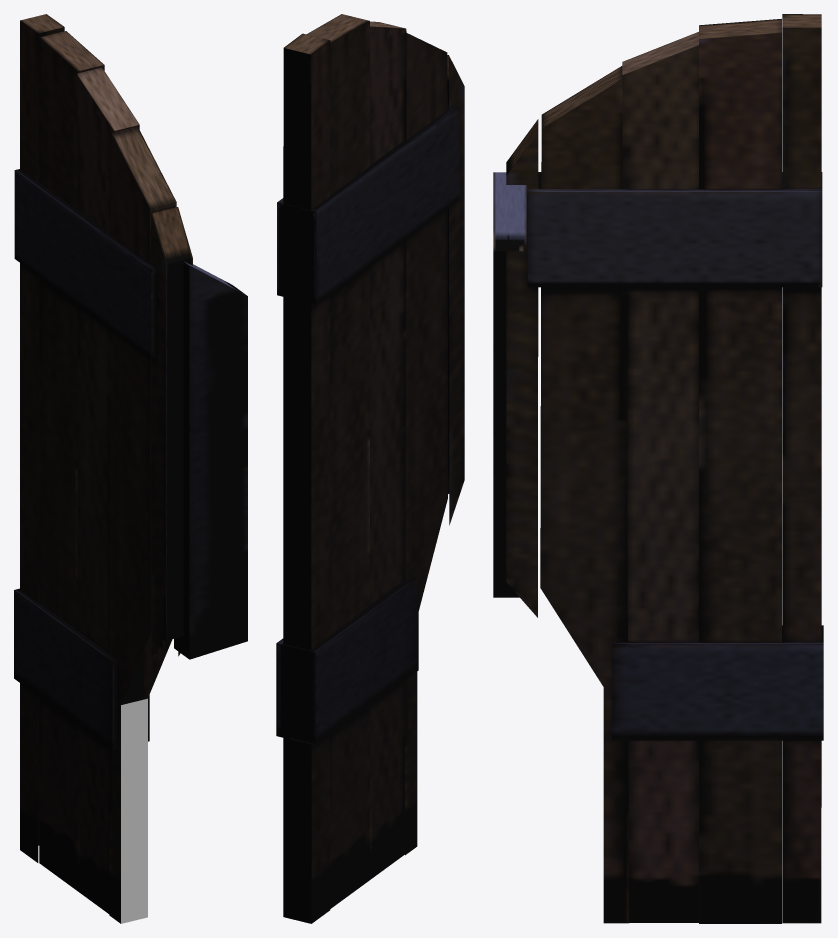
The model's file is DoorSide1F9.obj.
The picture shows the model from 3 angles, left to right: view 1: azimuth 30°, elevation 25°; view 2: azimuth 150°, elevation 25°; view 3: azimuth 270°, elevation 25°; orthographic projection. The views are drawn at different scales.
Parts seen in each view (by area): view 1: object 2, DoorSide1F9_Cube.438; view 2: object 2; view 3: object 2.
Part boxes in pixels (left/top/right/bottom): object 2: left=14, top=14, right=247, bottom=923; DoorSide1F9_Cube.438: left=121, top=698, right=147, bottom=923; object 2: left=276, top=14, right=464, bottom=923; object 2: left=493, top=14, right=823, bottom=923.
Bounding box in the file's own units: 27.28 × 268 × 89.5.
